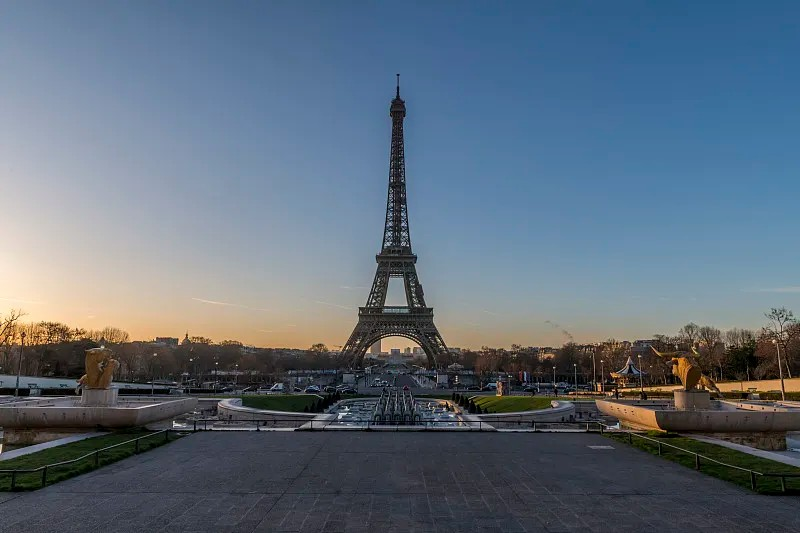Eiffel: (339, 74, 452, 373)
